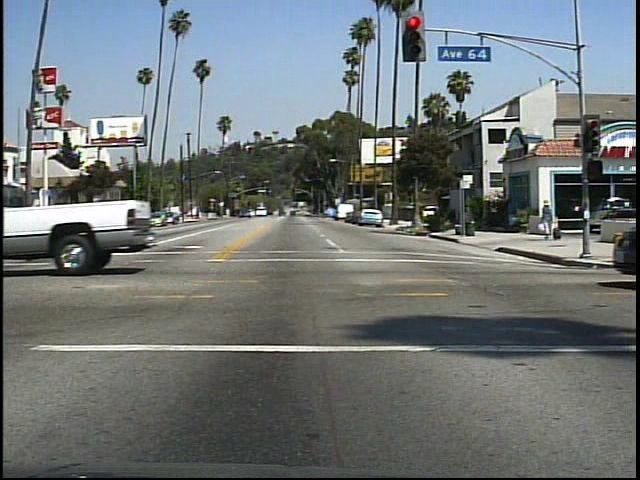person: (537, 194, 564, 242)
